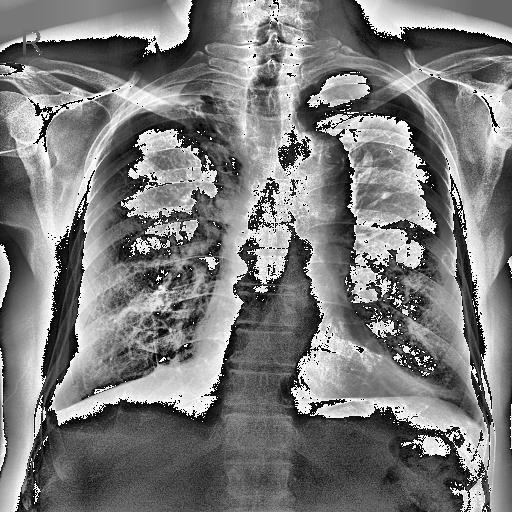0- Aortic enlargement: (287, 128, 357, 210), (286, 129, 356, 201), (284, 131, 352, 203)
10- Pleural effusion: (32, 402, 66, 444)
11- Pleural thickening: (120, 68, 236, 120), (116, 72, 242, 114), (130, 72, 248, 114), (306, 81, 356, 118), (32, 402, 66, 444), (47, 389, 65, 429)
13- Pulmonary fibrosis: (150, 104, 230, 200), (160, 95, 238, 159), (180, 100, 234, 177), (142, 302, 162, 368), (146, 297, 162, 373)
9- Other lesion: (78, 322, 234, 411)
